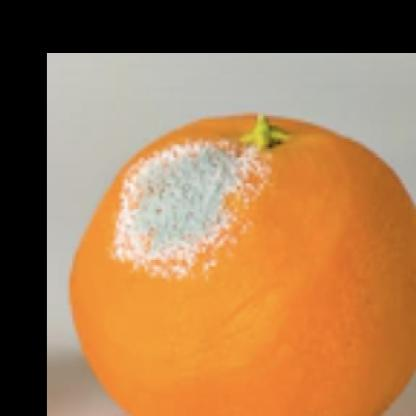rotten: (73, 113, 416, 416)
